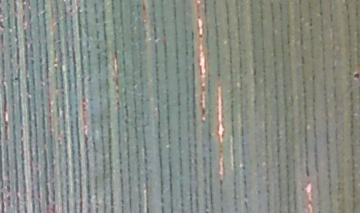tarspot: (198, 100, 206, 116), (327, 11, 335, 24), (94, 42, 102, 51), (352, 72, 360, 80), (318, 9, 325, 18), (1, 19, 6, 30), (242, 191, 248, 200), (29, 59, 36, 66), (86, 76, 92, 83), (216, 71, 221, 79), (197, 33, 203, 39), (13, 76, 18, 81), (1, 6, 3, 18)
